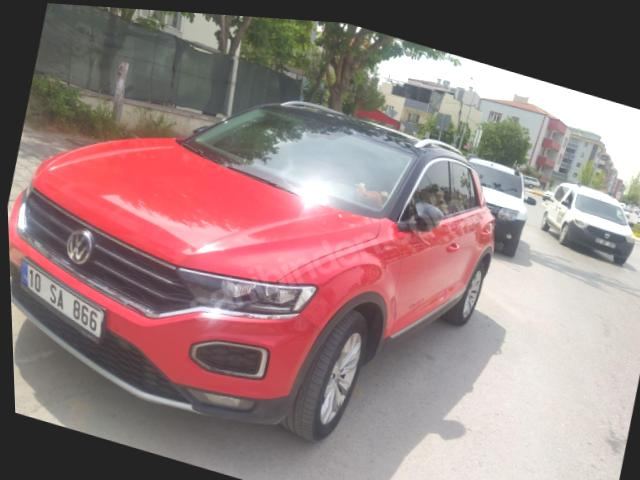plaka: (21, 259, 104, 341)
